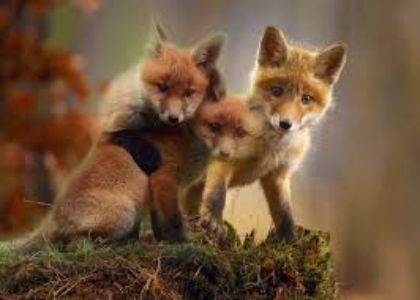fox: (254, 26, 340, 244), (82, 29, 213, 143), (195, 89, 254, 203)
